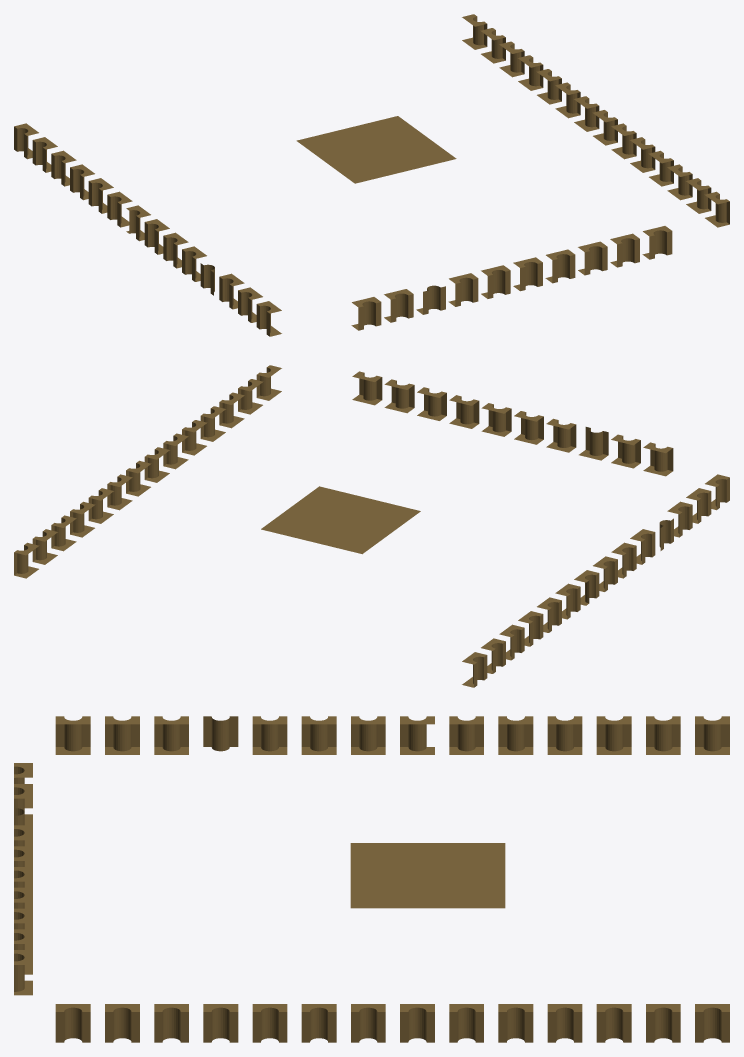
The model's file is zatana_terra_base_vis_117.dae.
3 renders of one model, top to bottom at view 1: azimuth 30°, elevation 25°; view 2: azimuth 150°, elevation 25°; view 3: azimuth 270°, elevation 25°, orthographic. The views are drawn at different scales.
Visible parts, largest first — view 1: Node_000002318374D100; view 2: Node_000002318374D100; view 3: Node_000002318374D100.
Part boxes in pixels (x1,y1,x2,y2): Node_000002318374D100: (14,14,729,336); Node_000002318374D100: (14,365,729,687); Node_000002318374D100: (14,716,729,1042).
Size of the model in its own units: 0.0181 by 0.00087 by 0.0185.
